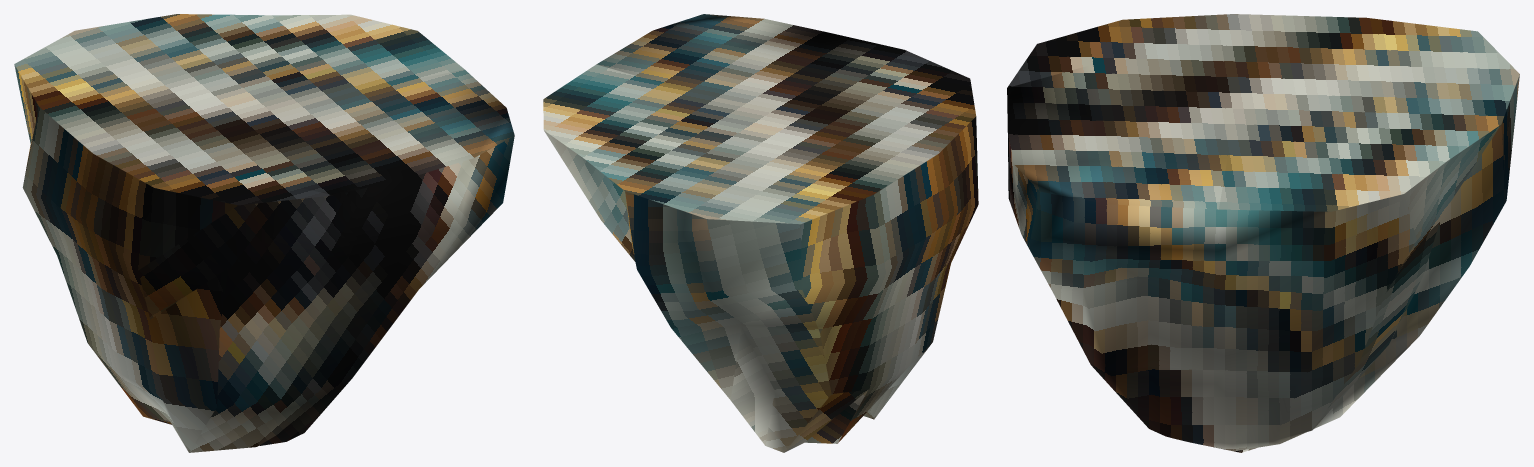
Rendered from flat_island_2.gltf.
3 views of the same model, side by side, from view 1: azimuth 30°, elevation 25°; view 2: azimuth 150°, elevation 25°; view 3: azimuth 270°, elevation 25° (orthographic). The views are drawn at different scales.
Visible parts, largest first — view 1: Plane; view 2: Plane; view 3: Plane.
Part boxes in pixels (<box>): Plane: <box>14,14,514,452</box>; Plane: <box>543,14,978,452</box>; Plane: <box>1007,14,1519,452</box>.
Size of the model in its own units: 3.47 by 2.83 by 3.68.
1 material, 1 textured.
